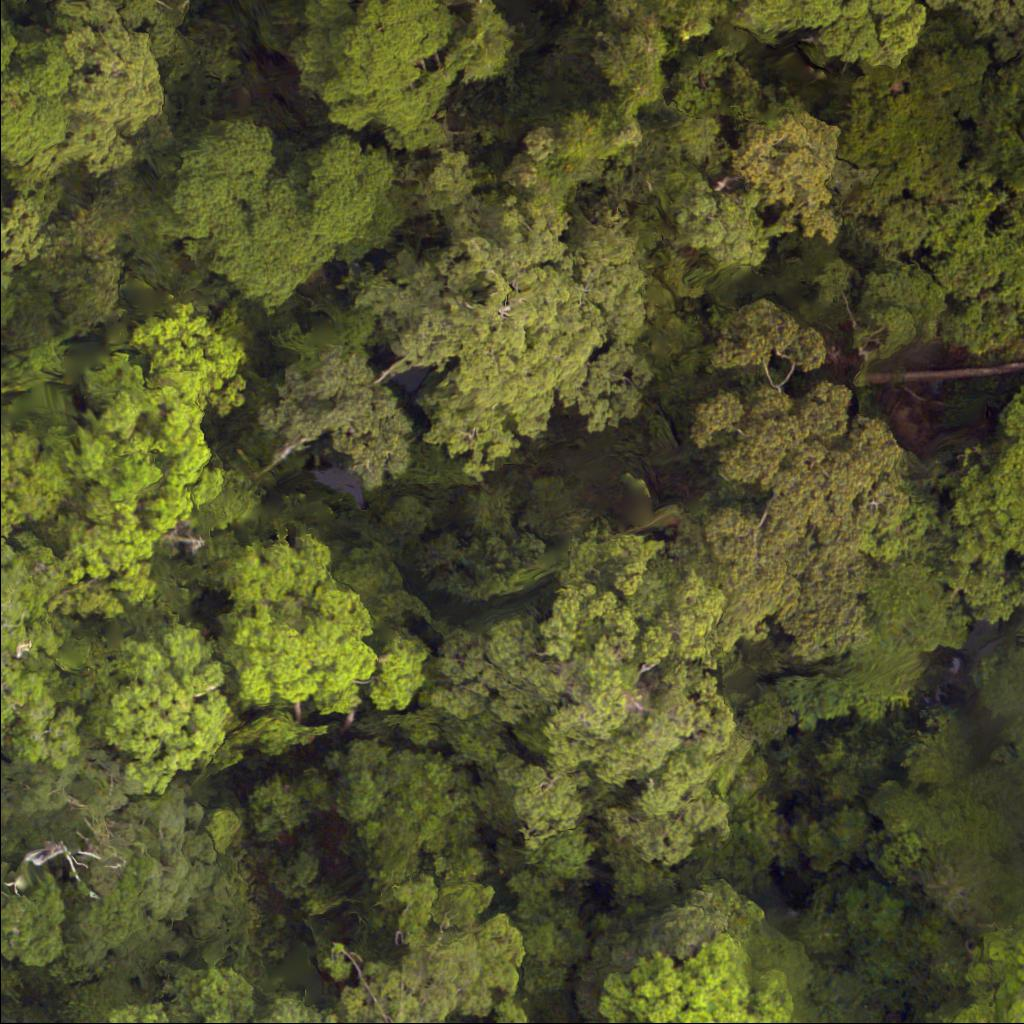crown: (430, 558, 773, 881), (653, 324, 941, 675), (166, 131, 394, 307), (257, 0, 506, 148), (601, 891, 862, 1023), (616, 0, 958, 81), (76, 365, 223, 523), (95, 634, 230, 772), (54, 30, 168, 175), (941, 436, 1023, 629), (137, 311, 248, 424), (52, 506, 155, 606), (942, 900, 1023, 1023), (970, 643, 1023, 815), (0, 546, 75, 661), (0, 431, 75, 529), (0, 198, 38, 291), (0, 642, 36, 732)
